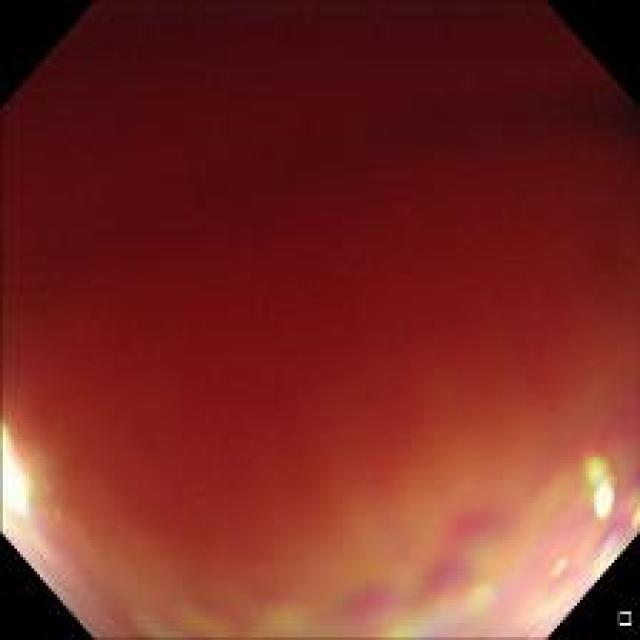color misalignment: (6, 10, 620, 619), (51, 450, 632, 631)
specularity: (4, 415, 36, 521), (590, 469, 620, 524)
